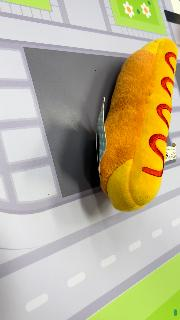hotdog: (98, 38, 178, 212)
